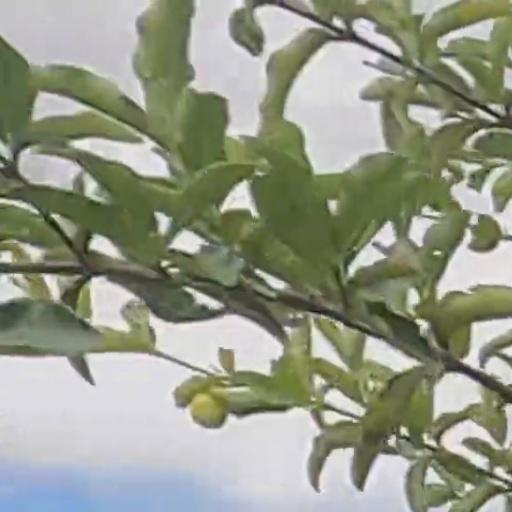acerola: (190, 392, 228, 429)
